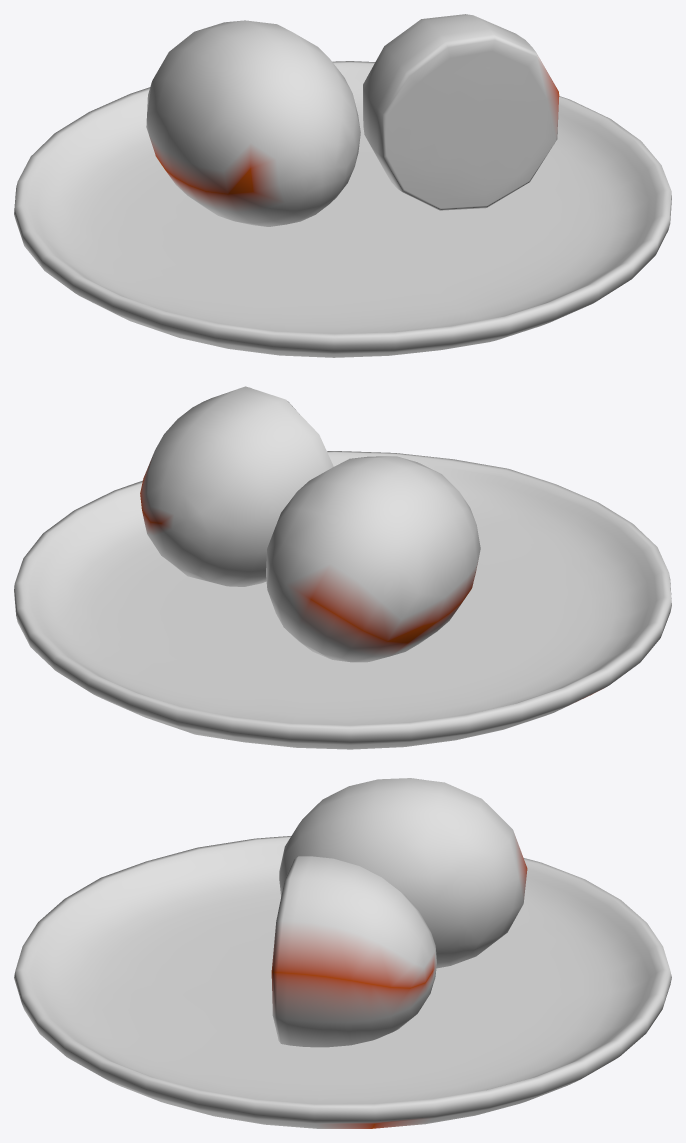
File: Kiwi.fbx
The picture shows the model from 3 angles, top to bottom: view 1: azimuth 30°, elevation 25°; view 2: azimuth 150°, elevation 25°; view 3: azimuth 270°, elevation 25°; orthographic projection.
Parts seen in each view (by area): view 1: PM3D_Cylinder3D_2_SeamsColor; view 2: PM3D_Cylinder3D_2_SeamsColor; view 3: PM3D_Cylinder3D_2_SeamsColor.
Boxes of the visible parts, bbox=[...] form: PM3D_Cylinder3D_2_SeamsColor: bbox=[14, 14, 671, 357]; PM3D_Cylinder3D_2_SeamsColor: bbox=[14, 386, 671, 749]; PM3D_Cylinder3D_2_SeamsColor: bbox=[14, 778, 671, 1128].
Size of the model in its own units: 1.96 by 0.6737 by 1.99.
